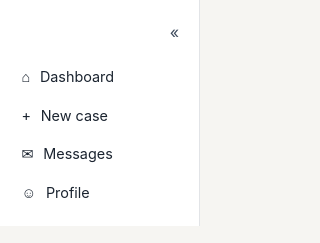
it: Sidebar › collapses to hide labels and expands back
Click the button named "collapse": (174, 32) [162, 16, 187, 47]
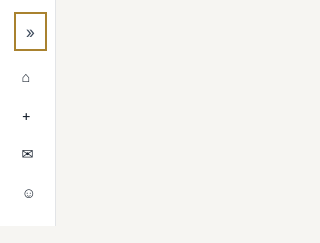
Expected: the link named "dashboard" is shown, [22, 68, 30, 85]
Expected: the text "Dashboard" is gone
Click the button named "expand": (30, 32) [18, 16, 43, 47]
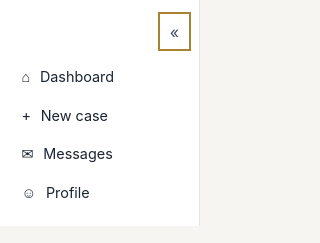
Expected: the text "Dashboard" is shown, [40, 68, 114, 85]
